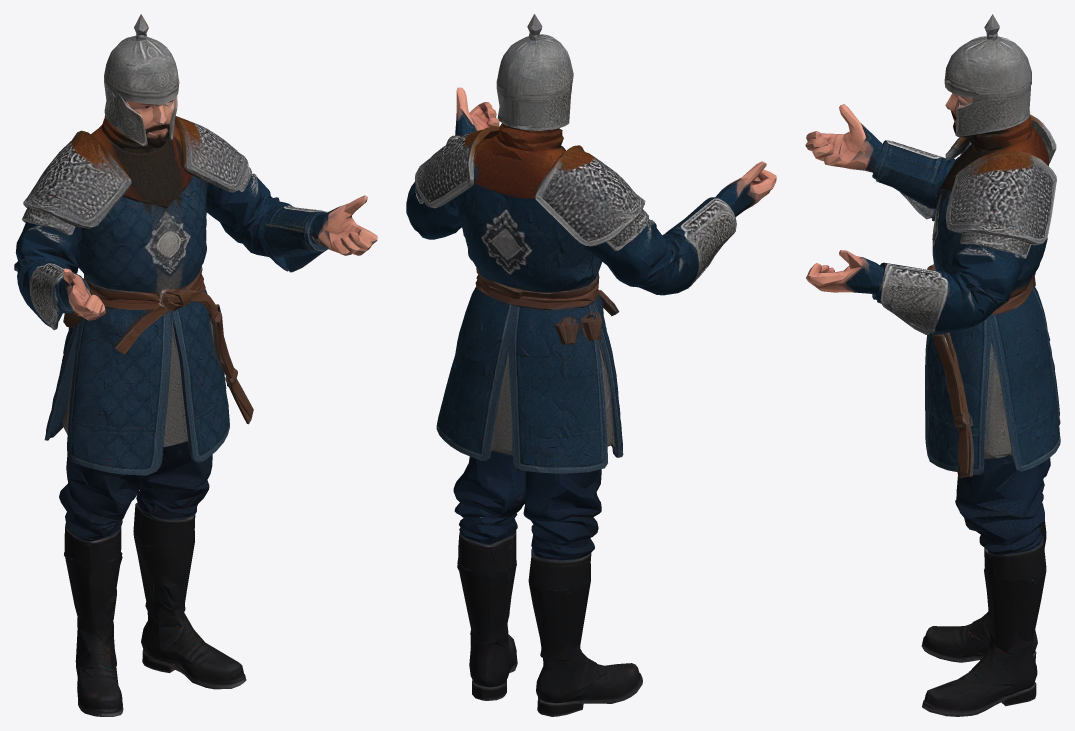
The model's file is char_X24_phan-tiep.glb.
3 views of the same model, side by side, from view 1: azimuth 30°, elevation 25°; view 2: azimuth 150°, elevation 25°; view 3: azimuth 270°, elevation 25° (orthographic).
Size of the model in its own units: 0.9082 by 1.9 by 0.6611.
1 material, 1 textured.
